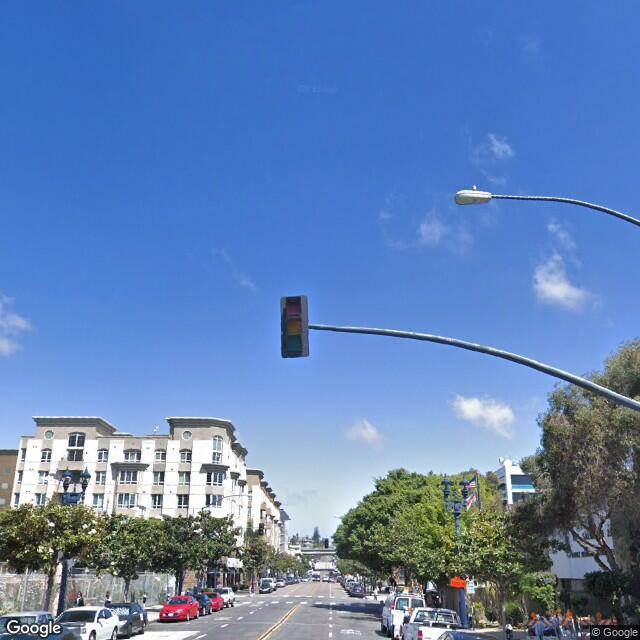light: (452, 189, 502, 206)
